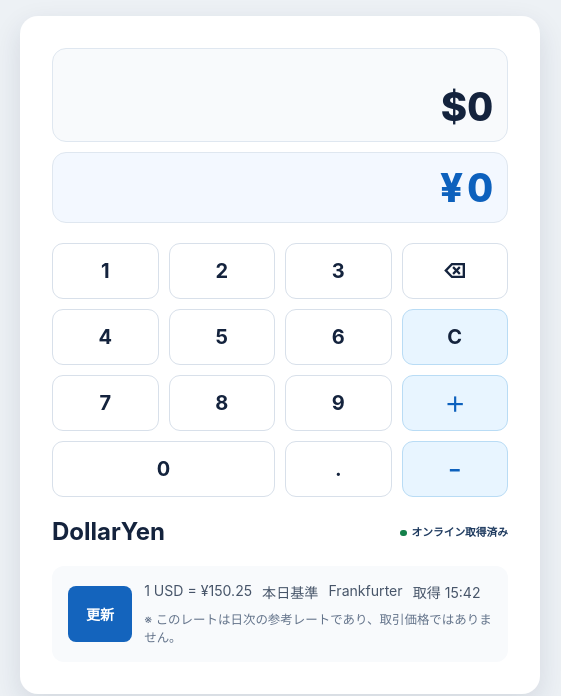
Test case: adds amounts using the on-screen plus control without an equals button
Click the button "1" at point(105, 271), box [52,243,158,299]
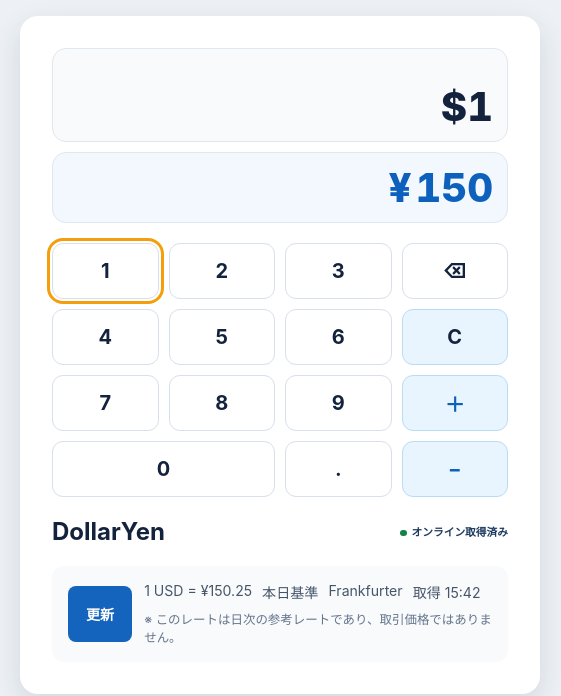
Click the button "0" at point(164, 469), box [52,441,275,497]
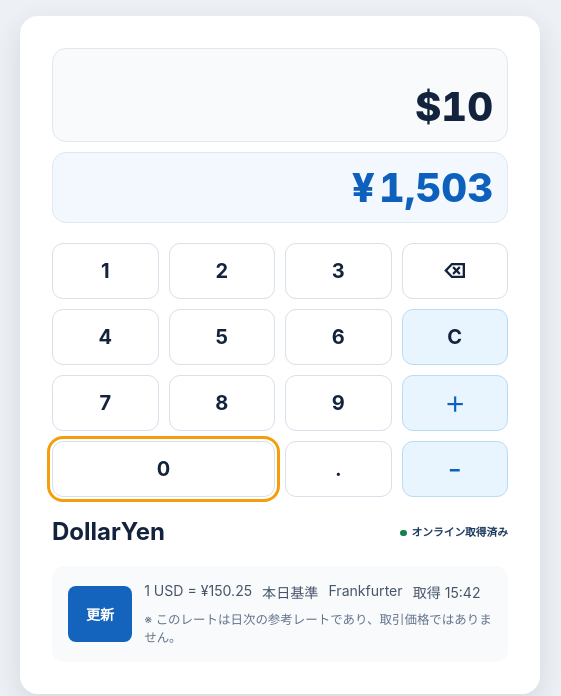
Click the button named "足す" at point(455, 403), box [402,375,508,431]
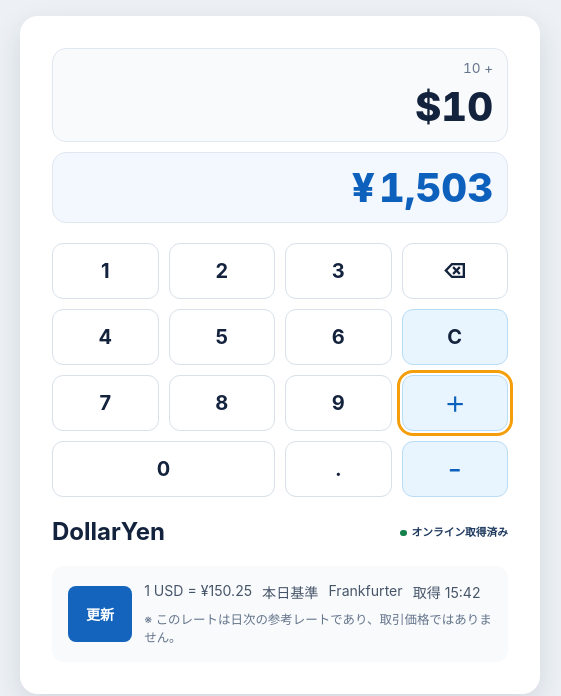
Click the button "2" at point(222, 271), box [168,243,275,299]
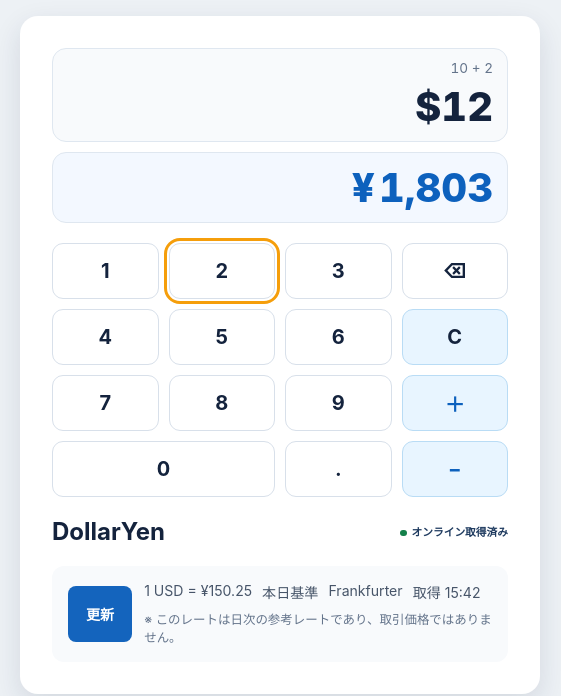
Click the button "0" at point(164, 469), box [52,441,275,497]
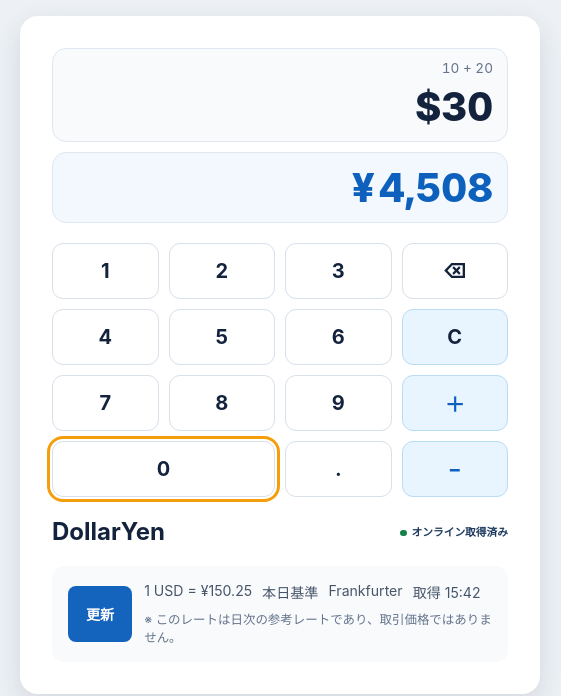
Now the text named "米ドル金額" reads "$30", box [415,82,493,131]
Now the element named "日本円金額" reads "¥ 4,508", box [352,163,493,212]
